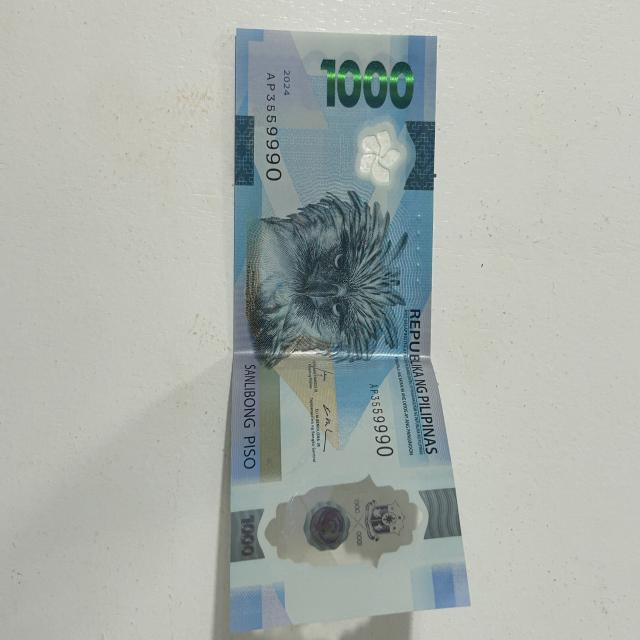clear_window: (234, 480, 454, 568)
eagle: (254, 172, 402, 356)
sampaguita: (348, 116, 405, 192)
security_thread: (233, 354, 432, 368)
serial_number: (260, 55, 284, 194), (363, 374, 397, 464)
value_watermark: (231, 506, 267, 558)
